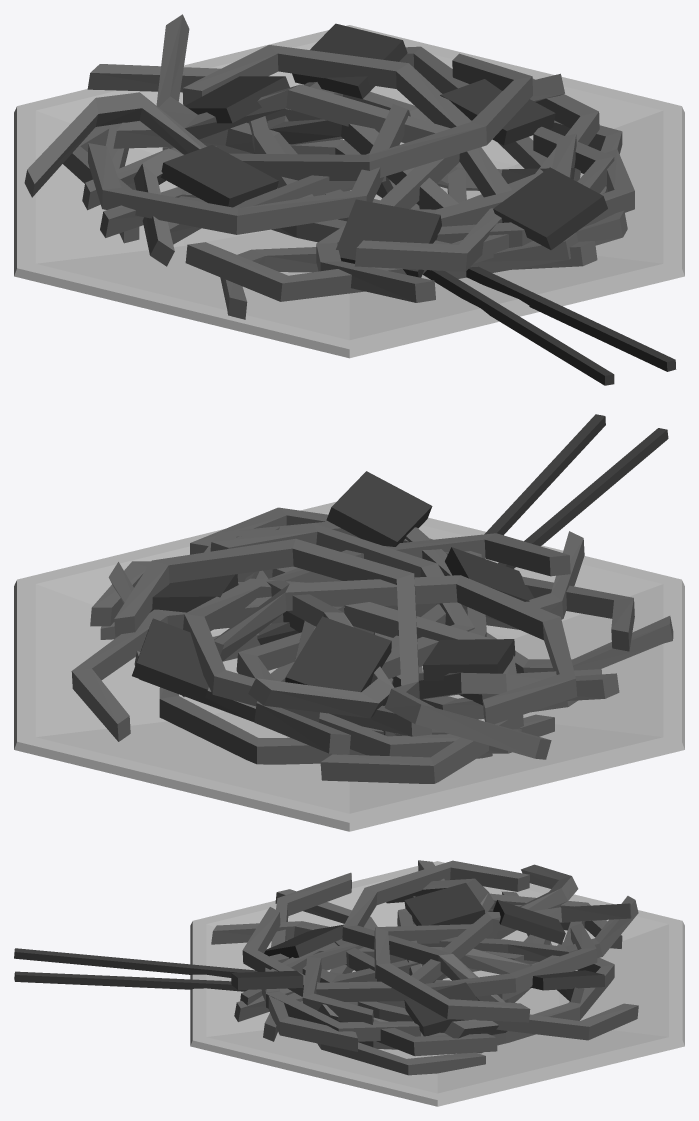
The model's file is plate_noodles_A.FBX.
3 views of the same model, one above another, from view 1: azimuth 30°, elevation 25°; view 2: azimuth 150°, elevation 25°; view 3: azimuth 270°, elevation 25° (orthographic). The views are drawn at different scales.
Parts seen in each view (by area): view 1: plate_noodles_A; view 2: plate_noodles_A; view 3: plate_noodles_A.
Part boxes in pixels (<box>): plate_noodles_A: <box>14,14,684,385</box>; plate_noodles_A: <box>14,414,684,831</box>; plate_noodles_A: <box>14,860,684,1106</box>.
Size of the model in its own units: 29.81 by 5.63 by 35.02.
